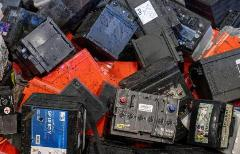electronic: (14, 80, 106, 154)
